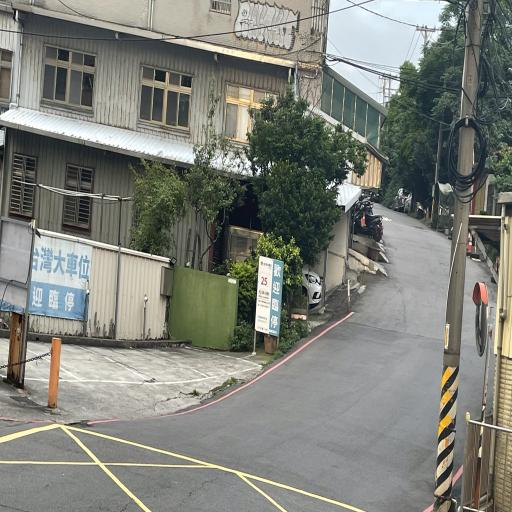redline: (83, 303, 357, 430), (1, 404, 71, 430)
